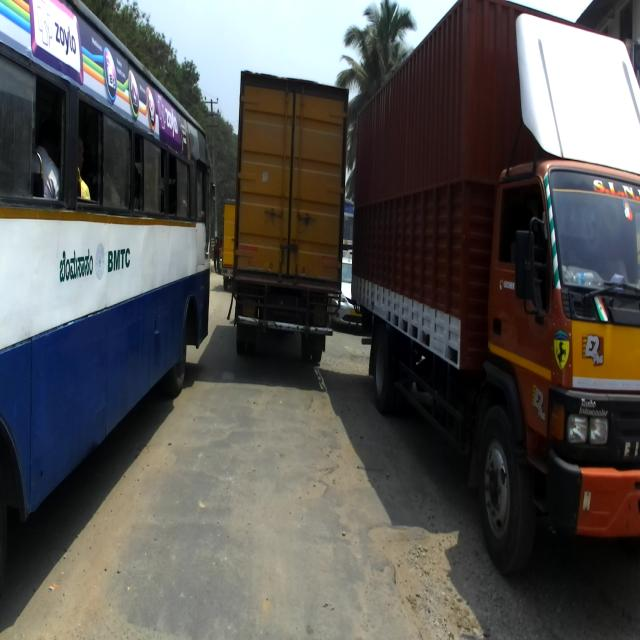bus ahead at: (1, 0, 214, 549)
truck ahead at: (348, 0, 639, 581), (233, 62, 349, 390)
